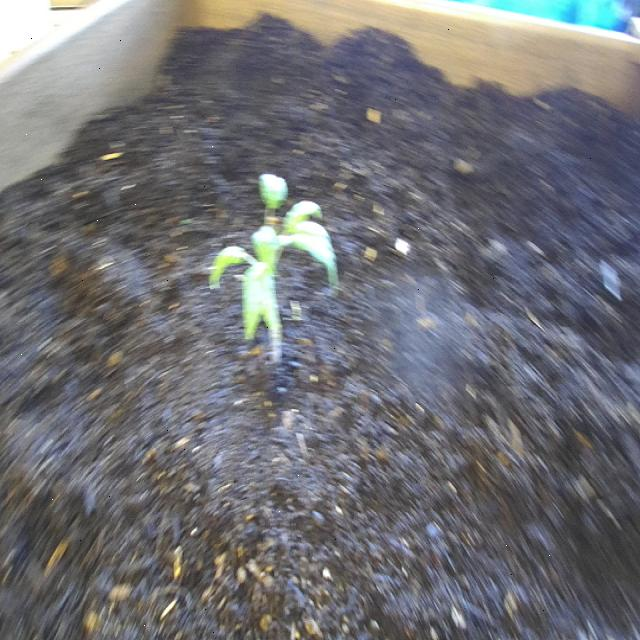Healthy: (199, 164, 346, 375)
